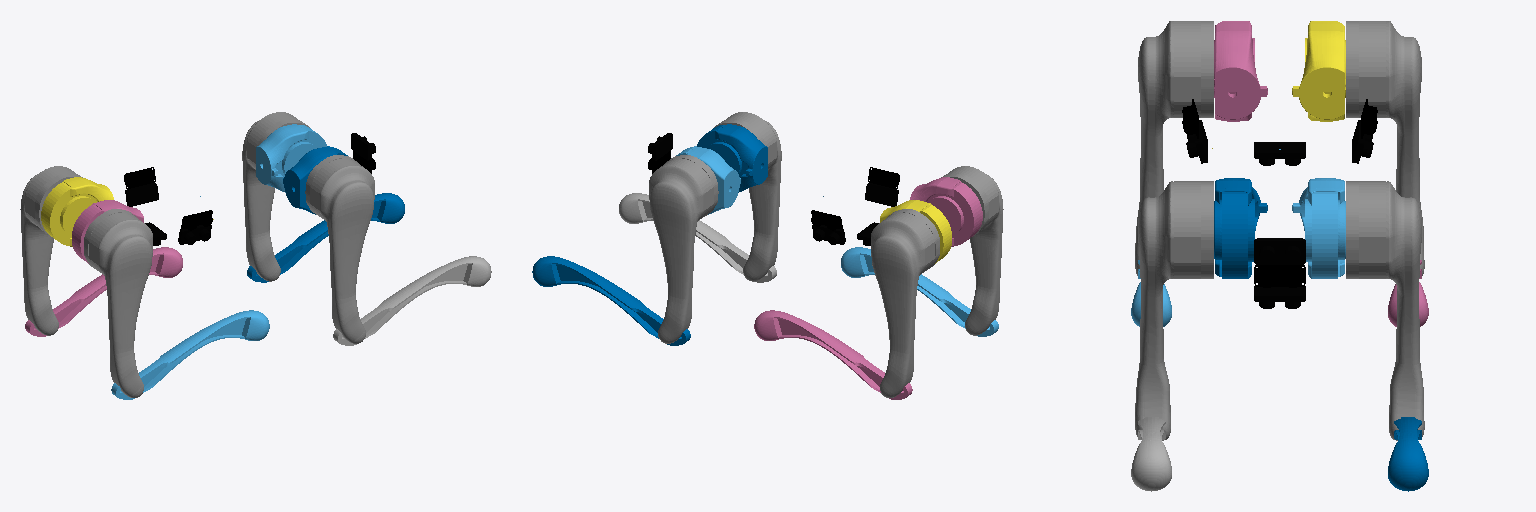
--- Facts derived from the render (not from the file) ---
Views: 3 orthographic renders of the robot side by side, from view 1: azimuth 30°, elevation 25°; view 2: azimuth 150°, elevation 25°; view 3: azimuth 270°, elevation 25°.
Model go1_description with 39 links and 38 joints (12 revolute, 26 fixed), rooted at world, posed all joints at 0 but 4 set to mid-range because 0 is outside their limits (FR_calf_joint = -1.81, FL_calf_joint = -1.81, RR_calf_joint = -1.81, RL_calf_joint = -1.81).
Visible links, largest first — view 1: FR_thigh, RR_thigh, RL_thigh, FL_thigh, FR_calf, RR_calf, RL_hip, FL_hip, FL_calf, RL_calf, FR_hip, RR_hip (+1 smaller); view 2: FL_thigh, RL_thigh, RR_thigh, FR_thigh, FL_calf, RL_calf, RR_hip, FR_hip, FR_calf, RR_calf, FL_hip, RL_hip (+1 smaller); view 3: FR_thigh, FL_thigh, RR_thigh, RL_thigh, RR_hip, RL_hip, FR_hip, FL_hip, FR_calf, FL_calf, camera_face, ultraSound_face (+6 smaller).
Boxes of the visible links, x1=… form: FR_thigh: x1=305, y1=155, x2=374, y2=343; RR_thigh: x1=84, y1=209, x2=152, y2=397; RL_thigh: x1=20, y1=166, x2=82, y2=335; FL_thigh: x1=242, y1=112, x2=309, y2=281; FR_calf: x1=333, y1=256, x2=491, y2=345; RR_calf: x1=111, y1=310, x2=269, y2=399; RL_hip: x1=41, y1=177, x2=113, y2=246; FL_hip: x1=256, y1=124, x2=326, y2=192; FL_calf: x1=247, y1=193, x2=404, y2=282; RL_calf: x1=25, y1=247, x2=182, y2=336; FR_hip: x1=283, y1=146, x2=347, y2=214; RR_hip: x1=72, y1=200, x2=143, y2=263; FL_thigh: x1=649, y1=155, x2=718, y2=343; RL_thigh: x1=871, y1=209, x2=939, y2=397; RR_thigh: x1=941, y1=166, x2=1003, y2=335; FR_thigh: x1=714, y1=112, x2=781, y2=281; FL_calf: x1=532, y1=256, x2=690, y2=345; RL_calf: x1=754, y1=310, x2=912, y2=399; RR_hip: x1=910, y1=177, x2=982, y2=246; FR_hip: x1=697, y1=124, x2=767, y2=192; FR_calf: x1=619, y1=193, x2=776, y2=282; RR_calf: x1=841, y1=247, x2=998, y2=336; FL_hip: x1=676, y1=146, x2=740, y2=214; RL_hip: x1=880, y1=200, x2=951, y2=263; FR_thigh: x1=1135, y1=181, x2=1213, y2=440; FL_thigh: x1=1346, y1=181, x2=1424, y2=440; RR_thigh: x1=1135, y1=21, x2=1213, y2=275; RL_thigh: x1=1346, y1=21, x2=1424, y2=275; RR_hip: x1=1214, y1=21, x2=1267, y2=121; RL_hip: x1=1292, y1=21, x2=1345, y2=121; FR_hip: x1=1214, y1=178, x2=1267, y2=278; FL_hip: x1=1292, y1=178, x2=1345, y2=278; FR_calf: x1=1131, y1=417, x2=1171, y2=491; FL_calf: x1=1388, y1=417, x2=1428, y2=491; camera_face: x1=1254, y1=238, x2=1305, y2=264; ultraSound_face: x1=1254, y1=265, x2=1305, y2=287.
Size in the robot's own frame: 0.6536 by 0.294 by 0.2794 metres.
20 mesh visuals loaded from 7 distinct referenced files (6 Collada DAE); not drawn: 1 (reference not matched to a file when rendering).

URDF robot description (go1_description):
<?xml version="1.0" ?>
<!-- =================================================================================== -->
<!-- |    This document was autogenerated by xacro from robot.xacro                    | -->
<!-- |    EDITING THIS FILE BY HAND IS NOT RECOMMENDED                                 | -->
<!-- =================================================================================== -->
<robot name="go1_description">
  <material name="black">
    <color rgba="0.0 0.0 0.0 1.0"/>
  </material>
  <material name="blue">
    <color rgba="0.0 0.0 0.8 1.0"/>
  </material>
  <material name="green">
    <color rgba="0.0 0.8 0.0 1.0"/>
  </material>
  <material name="grey">
    <color rgba="0.2 0.2 0.2 1.0"/>
  </material>
  <material name="silver">
    <color rgba="0.9137254901960784 0.9137254901960784 0.8470588235294118 1.0"/>
  </material>
  <material name="orange">
    <color rgba="1.0 0.4235294117647059 0.0392156862745098 1.0"/>
  </material>
  <material name="brown">
    <color rgba="0.8705882352941177 0.8117647058823529 0.7647058823529411 1.0"/>
  </material>
  <material name="red">
    <color rgba="0.8 0.0 0.0 1.0"/>
  </material>
  <material name="white">
    <color rgba="1.0 1.0 1.0 1.0"/>
  </material>
  <!-- ros_control plugin -->
  <gazebo>
    <plugin filename="libgazebo_ros_control.so" name="gazebo_ros_control">
      <robotNamespace>/go1_gazebo</robotNamespace>
      <robotSimType>gazebo_ros_control/DefaultRobotHWSim</robotSimType>
    </plugin>
  </gazebo>
  <!-- Show the trajectory of trunk center. -->
  <gazebo>
    <plugin filename="libLinkPlot3DPlugin.so" name="3dplot">
      <frequency>10</frequency>
      <plot>
        <link>base</link>
        <pose>0 0 0 0 0 0</pose>
        <material>Gazebo/Yellow</material>
      </plot>
    </plugin>
  </gazebo>
  <!-- Show the trajectory of foot. You can add another trajectory about another foot. -->
  <!-- <gazebo>
        <plugin name="3dplot" filename="libLinkPlot3DPlugin.so">
            <frequency>100</frequency>
            <plot>
                <link>FL_foot</link>
                <pose>0 0 0 0 0 0</pose>
                <material>Gazebo/Green</material>
            </plot>
        </plugin>
    </gazebo> -->
  <gazebo>
    <plugin filename="libgazebo_ros_force.so" name="gazebo_ros_force">
      <bodyName>trunk</bodyName>
      <topicName>/apply_force/trunk</topicName>
    </plugin>
  </gazebo>
  <gazebo reference="imu_link">
    <gravity>true</gravity>
    <sensor name="imu_sensor" type="imu">
      <always_on>true</always_on>
      <update_rate>1000</update_rate>
      <visualize>true</visualize>
      <topic>__default_topic__</topic>
      <plugin filename="libgazebo_ros_imu_sensor.so" name="imu_plugin">
        <topicName>trunk_imu</topicName>
        <bodyName>imu_link</bodyName>
        <updateRateHZ>1000.0</updateRateHZ>
        <gaussianNoise>0.0</gaussianNoise>
        <xyzOffset>0 0 0</xyzOffset>
        <rpyOffset>0 0 0</rpyOffset>
        <frameName>imu_link</frameName>
      </plugin>
      <pose>0 0 0 0 0 0</pose>
    </sensor>
  </gazebo>
  <!-- Depth camera -->
  <!-- <gazebo>
        <plugin name="camera_plugin" filename="libgazebo_ros_openni_kinect.so">
            <baseline>0.025</baseline>
            <always_on>true</always_on>
            <updateRate>0.0</updateRate>
            <cameraName>unitree_camera_left</cameraName>
            <frameName>depthCamera_link_left</frameName>
            <imageTopicName>rgb/imageRaw_left</imageTopicName>
            <depthImageTopicName>depth/imageRaw_left</depthImageTopicName>
            <pointCloudTopicName>depth/points_left</pointCloudTopicName>
            <cameraInfoTopicName>rgb/cameraInfo_left</cameraInfoTopicName>              
            <depthImageCameraInfoTopicName>depth/cameraInfo_left</depthImageCameraInfoTopicName>            
            <pointCloudCutoff>0.1</pointCloudCutoff>                
            <pointCloudCutoffMax>1.5</pointCloudCutoffMax>                
            <distortionK1>0.0</distortionK1>
            <distortionK2>0.0</distortionK2>
            <distortionK3>0.0</distortionK3>
            <distortionT1>0.0</distortionT1>
            <distortionT2>0.0</distortionT2>
            <CxPrime>0.0</CxPrime>
            <Cx>0.0045</Cx>
            <Cy>0.0039</Cy>
            <focalLength>0.004</focalLength>
            <hackBaseline>0.0</hackBaseline>
        </plugin>
    </gazebo> -->
  <!-- <gazebo reference="depthCamera_link_left">
        <sensor name="unitree_camera_left" type="depth_camera">
            <update_rate>16</update_rate>
            <always_on>true</always_on>
            <visualize>true</visualize>
            <camera>
                <horizontal_fov>2.094</horizontal_fov>
                <image>
                    <width>928</width>
                    <height>800</height>
                    <format>R8G8B8</format>
                </image>
                <depth_camera></depth_camera>
                <clip>
                    <near>0.1</near>
                    <far>100</far>
                </clip>
            </camera>
            <plugin name="camera_plugin" filename="libgazebo_ros_openni_kinect.so">
                <baseline>0.025</baseline>
                <always_on>true</always_on>
                <updateRate>0.0</updateRate>
                <cameraName>unitree_camera_left</cameraName>
                <frameName>depthCamera_link_left</frameName>
                <imageTopicName>rgb/imageRaw_left</imageTopicName>
                <depthImageTopicName>depth/imageRaw_left</depthImageTopicName>
                <pointCloudTopicName>depth/points_left</pointCloudTopicName>
                <cameraInfoTopicName>rgb/cameraInfo_left</cameraInfoTopicName>              
                <depthImageCameraInfoTopicName>depth/cameraInfo_left</depthImageCameraInfoTopicName>            
                <pointCloudCutoff>0.1</pointCloudCutoff>                
                <pointCloudCutoffMax>1.5</pointCloudCutoffMax>                
                <distortionK1>0.0</distortionK1>
                <distortionK2>0.0</distortionK2>
                <distortionK3>0.0</distortionK3>
                <distortionT1>0.0</distortionT1>
                <distortionT2>0.0</distortionT2>
                <CxPrime>0.0</CxPrime>
                <Cx>0.0045</Cx>
                <Cy>0.0039</Cy>
                <focalLength>0.004</focalLength>
                <hackBaseline>0.0</hackBaseline>
            </plugin>
        </sensor>
    </gazebo> -->
  <gazebo reference="depthCamera_link_left">
    <sensor name="camera_link_camera" type="depth">
      <update_rate>20</update_rate>
      <camera>
        <horizontal_fov>1.047198</horizontal_fov>
        <image>
          <width>640</width>
          <height>480</height>
          <format>R8G8B8</format>
        </image>
        <clip>
          <near>0.05</near>
          <far>3</far>
        </clip>
      </camera>
      <plugin filename="libgazebo_ros_openni_kinect.so" name="camera_link_controller">
        <baseline>0.2</baseline>
        <alwaysOn>true</alwaysOn>
        <updateRate>1.0</updateRate>
        <cameraName>camera_link_ir</cameraName>
        <imageTopicName>/camera_link/color/image_raw</imageTopicName>
        <cameraInfoTopicName>/camera_link/color/camera_info</cameraInfoTopicName>
        <depthImageTopicName>/camera_link/depth/image_raw</depthImageTopicName>
        <depthImageInfoTopicName>/camera_link/depth/camera_info</depthImageInfoTopicName>
        <pointCloudTopicName>/camera_link/depth/points</pointCloudTopicName>
        <frameName>depthCamera_link_left</frameName>
        <pointCloudCutoff>0.5</pointCloudCutoff>
        <pointCloudCutoffMax>3.0</pointCloudCutoffMax>
        <distortionK1>0.00000001</distortionK1>
        <distortionK2>0.00000001</distortionK2>
        <distortionK3>0.00000001</distortionK3>
        <distortionT1>0.00000001</distortionT1>
        <distortionT2>0.00000001</distortionT2>
        <CxPrime>0</CxPrime>
        <Cx>0</Cx>
        <Cy>0</Cy>
        <focalLength>0</focalLength>
        <hackBaseline>0</hackBaseline>
      </plugin>
    </sensor>
  </gazebo>
  <!-- Foot contacts. -->
  <gazebo reference="FR_calf">
    <sensor name="FR_foot_contact" type="contact">
      <update_rate>100</update_rate>
      <plugin filename="libunitreeFootContactPlugin.so" name="contactPlugin"/>
      <contact>
        <collision>FR_calf_fixed_joint_lump__FR_foot_collision_1</collision>
      </contact>
    </sensor>
  </gazebo>
  <gazebo reference="FL_calf">
    <sensor name="FL_foot_contact" type="contact">
      <update_rate>100</update_rate>
      <plugin filename="libunitreeFootContactPlugin.so" name="contactPlugin"/>
      <contact>
        <collision>FL_calf_fixed_joint_lump__FL_foot_collision_1</collision>
      </contact>
    </sensor>
  </gazebo>
  <gazebo reference="RR_calf">
    <sensor name="RR_foot_contact" type="contact">
      <update_rate>100</update_rate>
      <plugin filename="libunitreeFootContactPlugin.so" name="contactPlugin"/>
      <contact>
        <collision>RR_calf_fixed_joint_lump__RR_foot_collision_1</collision>
      </contact>
    </sensor>
  </gazebo>
  <gazebo reference="RL_calf">
    <sensor name="RL_foot_contact" type="contact">
      <update_rate>100</update_rate>
      <plugin filename="libunitreeFootContactPlugin.so" name="contactPlugin"/>
      <contact>
        <collision>RL_calf_fixed_joint_lump__RL_foot_collision_1</collision>
      </contact>
    </sensor>
  </gazebo>
  <!-- Visualization of Foot contacts. -->
  <gazebo reference="FR_foot">
    <visual>
      <plugin filename="libunitreeDrawForcePlugin.so" name="drawForcePlugin">
        <topicName>FR_foot_contact</topicName>
      </plugin>
    </visual>
  </gazebo>
  <gazebo reference="FL_foot">
    <visual>
      <plugin filename="libunitreeDrawForcePlugin.so" name="drawForcePlugin">
        <topicName>FL_foot_contact</topicName>
      </plugin>
    </visual>
  </gazebo>
  <gazebo reference="RR_foot">
    <visual>
      <plugin filename="libunitreeDrawForcePlugin.so" name="drawForcePlugin">
        <topicName>RR_foot_contact</topicName>
      </plugin>
    </visual>
  </gazebo>
  <gazebo reference="RL_foot">
    <visual>
      <plugin filename="libunitreeDrawForcePlugin.so" name="drawForcePlugin">
        <topicName>RL_foot_contact</topicName>
      </plugin>
    </visual>
  </gazebo>
  <gazebo reference="base">
    <material>Gazebo/Green</material>
    <turnGravityOff>false</turnGravityOff>
  </gazebo>
  <gazebo reference="trunk">
    <mu1>0.2</mu1>
    <mu2>0.2</mu2>
    <kp value="1000000.0"/>
    <kd value="1.0"/>
  </gazebo>
  <gazebo reference="stick_link">
    <mu1>0.2</mu1>
    <mu2>0.2</mu2>
    <material>Gazebo/White</material>
  </gazebo>
  <gazebo reference="imu_link">
    <mu1>0.2</mu1>
    <mu2>0.2</mu2>
    <material>Gazebo/Red</material>
  </gazebo>
  <!-- FL leg -->
  <gazebo reference="FL_hip">
    <mu1>0.2</mu1>
    <mu2>0.2</mu2>
    <material>Gazebo/DarkGrey</material>
  </gazebo>
  <gazebo reference="FL_thigh">
    <mu1>0.2</mu1>
    <mu2>0.2</mu2>
    <self_collide>1</self_collide>
    <material>Gazebo/DarkGrey</material>
    <kp value="1000000.0"/>
    <kd value="1.0"/>
  </gazebo>
  <gazebo reference="FL_calf">
    <mu1>0.2</mu1>
    <mu2>0.2</mu2>
    <self_collide>1</self_collide>
  </gazebo>
  <gazebo reference="FL_foot">
    <mu1>0.6</mu1>
    <mu2>0.6</mu2>
    <self_collide>1</self_collide>
    <material>Gazebo/DarkGrey</material>
    <kp value="1000000.0"/>
    <kd value="1.0"/>
  </gazebo>
  <!-- FR leg -->
  <gazebo reference="FR_hip">
    <mu1>0.2</mu1>
    <mu2>0.2</mu2>
    <material>Gazebo/DarkGrey</material>
  </gazebo>
  <gazebo reference="FR_thigh">
    <mu1>0.2</mu1>
    <mu2>0.2</mu2>
    <self_collide>1</self_collide>
    <material>Gazebo/DarkGrey</material>
    <kp value="1000000.0"/>
    <kd value="1.0"/>
  </gazebo>
  <gazebo reference="FR_calf">
    <mu1>0.2</mu1>
    <mu2>0.2</mu2>
    <self_collide>1</self_collide>
  </gazebo>
  <gazebo reference="FR_foot">
    <mu1>0.6</mu1>
    <mu2>0.6</mu2>
    <self_collide>1</self_collide>
    <material>Gazebo/DarkGrey</material>
    <kp value="1000000.0"/>
    <kd value="1.0"/>
  </gazebo>
  <!-- RL leg -->
  <gazebo reference="RL_hip">
    <mu1>0.2</mu1>
    <mu2>0.2</mu2>
    <material>Gazebo/DarkGrey</material>
  </gazebo>
  <gazebo reference="RL_thigh">
    <mu1>0.2</mu1>
    <mu2>0.2</mu2>
    <self_collide>1</self_collide>
    <material>Gazebo/DarkGrey</material>
    <kp value="1000000.0"/>
    <kd value="1.0"/>
  </gazebo>
  <gazebo reference="RL_calf">
    <mu1>0.2</mu1>
    <mu2>0.2</mu2>
    <self_collide>1</self_collide>
  </gazebo>
  <gazebo reference="RL_foot">
    <mu1>0.6</mu1>
    <mu2>0.6</mu2>
    <self_collide>1</self_collide>
    <material>Gazebo/DarkGrey</material>
    <kp value="1000000.0"/>
    <kd value="1.0"/>
  </gazebo>
  <!-- RR leg -->
  <gazebo reference="RR_hip">
    <mu1>0.2</mu1>
    <mu2>0.2</mu2>
    <material>Gazebo/DarkGrey</material>
  </gazebo>
  <gazebo reference="RR_thigh">
    <mu1>0.2</mu1>
    <mu2>0.2</mu2>
    <self_collide>1</self_collide>
    <material>Gazebo/DarkGrey</material>
    <kp value="1000000.0"/>
    <kd value="1.0"/>
  </gazebo>
  <gazebo reference="RR_calf">
    <mu1>0.2</mu1>
    <mu2>0.2</mu2>
    <self_collide>1</self_collide>
  </gazebo>
  <gazebo reference="RR_foot">
    <mu1>0.6</mu1>
    <mu2>0.6</mu2>
    <self_collide>1</self_collide>
    <material>Gazebo/DarkGrey</material>
    <kp value="1000000.0"/>
    <kd value="1.0"/>
  </gazebo>
  <!-- <xacro:include filename="$(find go1_gazebo)/launch/stairs.urdf.xacro"/> -->
  <!-- <xacro:stairs stairs="15" xpos="0" ypos="0" zpos="0" /> -->
  <!-- Debug mode will hung up the robot, use "true" or "false" to switch it. -->
  <!-- <xacro:if value="$(arg DEBUG)"> -->
  <link name="world"/>
  <joint name="base_static_joint" type="fixed">
    <origin rpy="0 0 0" xyz="0 0 0"/>
    <parent link="world"/>
    <child link="base"/>
  </joint>
  <!-- </xacro:if>  -->
  <link name="base">
    <visual>
      <origin rpy="0 0 0" xyz="0 0 0"/>
      <geometry>
        <box size="0.001 0.001 0.001"/>
      </geometry>
    </visual>
  </link>
  <joint name="floating_base" type="fixed">
    <origin rpy="0 0 0" xyz="0 0 0"/>
    <parent link="base"/>
    <child link="trunk"/>
  </joint>
  <link name="trunk">
    <visual>
      <origin rpy="0 0 0" xyz="0 0 0"/>
      <geometry>
        <mesh filename="package://go1_description/meshes/trunk.dae" scale="1 1 1"/>
      </geometry>
      <!-- <material name="orange"/> -->
    </visual>
    <collision>
      <origin rpy="0 0 0" xyz="0 0 0"/>
      <geometry>
        <box size="0.3762 0.0935 0.114"/>
      </geometry>
    </collision>
    <inertial>
      <origin rpy="0 0 0" xyz="0.011611 0.004437 0.000108"/>
      <mass value="4.8"/>
      <inertia ixx="0.016130741919" ixy="0.000593180607" ixz="7.324662e-06" iyy="0.036507810812" iyz="2.0969537e-05" izz="0.044693872053"/>
    </inertial>
  </link>
  <joint name="imu_joint" type="fixed">
    <parent link="trunk"/>
    <child link="imu_link"/>
    <origin rpy="0 0 0" xyz="-0.01592 -0.06659 -0.00617"/>
  </joint>
  <link name="imu_link">
    <inertial>
      <mass value="0.001"/>
      <origin rpy="0 0 0" xyz="0 0 0"/>
      <inertia ixx="0.0001" ixy="0" ixz="0" iyy="0.0001" iyz="0" izz="0.0001"/>
    </inertial>
    <visual>
      <origin rpy="0 0 0" xyz="0 0 0"/>
      <geometry>
        <box size="0.001 0.001 0.001"/>
      </geometry>
      <!-- <material name="red"/> -->
    </visual>
    <collision>
      <origin rpy="0 0 0" xyz="0 0 0"/>
      <geometry>
        <box size=".001 .001 .001"/>
      </geometry>
    </collision>
  </link>
  <joint name="FR_hip_joint" type="revolute">
    <origin rpy="0 0 0" xyz="0.1881 -0.04675 0"/>
    <parent link="trunk"/>
    <child link="FR_hip"/>
    <axis xyz="1 0 0"/>
    <dynamics damping="0.01" friction="0.2"/>
    <limit effort="33.5" lower="-0.8028514559173915" upper="0.8028514559173915" velocity="21"/>
  </joint>
  <link name="FR_hip">
    <visual>
      <origin rpy="3.141592653589793 0 0" xyz="0 0 0"/>
      <geometry>
        <mesh filename="package://go1_description/meshes/hip.dae" scale="1 1 1"/>
      </geometry>
      <!-- <material name="orange"/> -->
    </visual>
    <collision>
      <origin rpy="1.5707963267948966 0 0" xyz="0 0 0"/>
      <geometry>
        <cylinder length="0.04" radius="0.046"/>
      </geometry>
    </collision>
    <inertial>
      <origin rpy="0 0 0" xyz="-0.00541 0.00074 6e-06"/>
      <mass value="0.510299"/>
      <inertia ixx="0.00030528937" ixy="7.788013e-06" ixz="2.2016e-07" iyy="0.000590894859" iyz="1.7175e-08" izz="0.000396594572"/>
    </inertial>
  </link>
  <joint name="FR_hip_fixed" type="fixed">
    <origin rpy="0 0 0" xyz="0 -0.08 0"/>
    <parent link="FR_hip"/>
    <child link="FR_thigh_shoulder"/>
  </joint>
  <!-- this link is only for collision -->
  <link name="FR_thigh_shoulder">
    <collision>
      <origin rpy="1.5707963267948966 0 0" xyz="0 0 0"/>
      <geometry>
        <cylinder length="0.032" radius="0.041"/>
      </geometry>
    </collision>
  </link>
  <joint name="FR_thigh_joint" type="revolute">
    <origin rpy="0 0 0" xyz="0 -0.08 0"/>
    <parent link="FR_hip"/>
    <child link="FR_thigh"/>
    <axis xyz="0 1 0"/>
    <dynamics damping="0.01" friction="0.2"/>
    <limit effort="33.5" lower="-1.0471975511965976" upper="4.1887902047863905" velocity="21"/>
  </joint>
  <link name="FR_thigh">
    <visual>
      <origin rpy="0 0 0" xyz="0 0 0"/>
      <geometry>
        <mesh filename="package://go1_description/meshes/thigh_mirror.dae" scale="1 1 1"/>
      </geometry>
      <!-- <material name="orange"/> -->
    </visual>
    <collision>
      <origin rpy="0 1.5707963267948966 0" xyz="0 0 -0.1065"/>
      <geometry>
        <box size="0.213 0.0245 0.034"/>
      </geometry>
    </collision>
    <inertial>
      <origin rpy="0 0 0" xyz="-0.003468 0.018947 -0.032736"/>
      <mass value="0.898919"/>
      <inertia ixx="0.005395867678" ixy="-1.02809e-07" ixz="0.000337529085" iyy="0.005142451046" iyz="5.816563e-06" izz="0.00102478732"/>
    </inertial>
  </link>
  <joint name="FR_calf_joint" type="revolute">
    <origin rpy="0 0 0" xyz="0 0 -0.213"/>
    <parent link="FR_thigh"/>
    <child link="FR_calf"/>
    <axis xyz="0 1 0"/>
    <dynamics damping="0.01" friction="0.2"/>
    <limit effort="33.5" lower="-2.6965336943312392" upper="-0.9162978572970231" velocity="21"/>
  </joint>
  <link name="FR_calf">
    <visual>
      <origin rpy="0 0 0" xyz="0 0 0"/>
      <geometry>
        <mesh filename="package://go1_description/meshes/calf.dae" scale="1 1 1"/>
      </geometry>
      <!-- <material name="orange"/> -->
    </visual>
    <collision>
      <origin rpy="0 1.5707963267948966 0" xyz="0 0 -0.1065"/>
      <geometry>
        <box size="0.213 0.016 0.016"/>
      </geometry>
    </collision>
    <inertial>
      <origin rpy="0 0 0" xyz="0.006286 0.001307 -0.122269"/>
      <mass value="0.158015"/>
      <inertia ixx="0.003607648222" ixy="1.494971e-06" ixz="-0.000132778525" iyy="0.003626771492" iyz="-2.8638535e-05" izz="3.5148003e-05"/>
    </inertial>
  </link>
  <joint name="FR_foot_fixed" type="fixed">
    <origin rpy="0 0 0" xyz="0 0 -0.213"/>
    <parent link="FR_calf"/>
    <child link="FR_foot"/>
  </joint>
  <link name="FR_foot">
    <visual>
      <origin rpy="0 0 0" xyz="0 0 0"/>
      <geometry>
        <sphere radius="0.01"/>
      </geometry>
      <!-- <material name="orange"/> -->
    </visual>
    <collision>
      <origin rpy="0 0 0" xyz="0 0 0"/>
      <geometry>
        <sphere radius="0.02"/>
      </geometry>
    </collision>
    <inertial>
      <mass value="0.06"/>
      <inertia ixx="9.600000000000001e-06" ixy="0.0" ixz="0.0" iyy="9.600000000000001e-06" iyz="0.0" izz="9.600000000000001e-06"/>
    </inertial>
  </link>
  <transmission name="FR_hip_tran">
    <type>transmission_interface/SimpleTransmission</type>
    <joint name="FR_hip_joint">
      <hardwareInterface>hardware_interface/EffortJointInterface</hardwareInterface>
    </joint>
    <actuator name="FR_hip_motor">
      <hardwareInterface>hardware_interface/EffortJointInterface</hardwareInterface>
      <mechanicalReduction>1</mechanicalReduction>
    </actuator>
  </transmission>
  <transmission name="FR_thigh_tran">
    <type>transmission_interface/SimpleTransmission</type>
    <joint name="FR_thigh_joint">
      <hardwareInterface>hardware_interface/EffortJointInterface</hardwareInterface>
    </joint>
    <actuator name="FR_thigh_motor">
      <hardwareInterface>hardware_interface/EffortJointInterface</hardwareInterface>
      <mechanicalReduction>1</mechanicalReduction>
    </actuator>
  </transmission>
  <transmission name="FR_calf_tran">
    <type>transmission_interface/SimpleTransmission</type>
    <joint name="FR_calf_joint">
      <hardwareInterface>hardware_interface/EffortJointInterface</hardwareInterface>
    </joint>
    <actuator name="FR_calf_motor">
      <hardwareInterface>hardware_interface/EffortJointInterface</hardwareInterface>
      <mechanicalReduction>1</mechanicalReduction>
    </actuator>
  </transmission>
  <joint name="FL_hip_joint" type="revolute">
    <origin rpy="0 0 0" xyz="0.1881 0.04675 0"/>
    <parent link="trunk"/>
    <child link="FL_hip"/>
    <axis xyz="1 0 0"/>
    <dynamics damping="0.01" friction="0.2"/>
    <limit effort="33.5" lower="-0.8028514559173915" upper="0.8028514559173915" velocity="21"/>
  </joint>
  <link name="FL_hip">
    <visual>
      <origin rpy="0 0 0" xyz="0 0 0"/>
      <geometry>
        <mesh filename="package://go1_description/meshes/hip.dae" scale="1 1 1"/>
      </geometry>
      <!-- <material name="orange"/> -->
    </visual>
    <collision>
      <origin rpy="1.5707963267948966 0 0" xyz="0 0 0"/>
      <geometry>
        <cylinder length="0.04" radius="0.046"/>
      </geometry>
    </collision>
    <inertial>
      <origin rpy="0 0 0" xyz="-0.00541 -0.00074 6e-06"/>
      <mass value="0.510299"/>
      <inertia ixx="0.00030528937" ixy="-7.788013e-06" ixz="2.2016e-07" iyy="0.000590894859" iyz="-1.7175e-08" izz="0.000396594572"/>
    </inertial>
  </link>
  <joint name="FL_hip_fixed" type="fixed">
    <origin rpy="0 0 0" xyz="0 0.08 0"/>
    <parent link="FL_hip"/>
    <child link="FL_thigh_shoulder"/>
  </joint>
  <!-- this link is only for collision -->
  <link name="FL_thigh_shoulder">
    <collision>
      <origin rpy="1.5707963267948966 0 0" xyz="0 0 0"/>
      <geometry>
        <cylinder length="0.032" radius="0.041"/>
      </geometry>
    </collision>
  </link>
  <joint name="FL_thigh_joint" type="revolute">
    <origin rpy="0 0 0" xyz="0 0.08 0"/>
    <parent link="FL_hip"/>
    <child link="FL_thigh"/>
    <axis xyz="0 1 0"/>
    <dynamics damping="0.01" friction="0.2"/>
    <limit effort="33.5" lower="-1.0471975511965976" upper="4.1887902047863905" velocity="21"/>
  </joint>
  <link name="FL_thigh">
    <visual>
      <origin rpy="0 0 0" xyz="0 0 0"/>
      <geometry>
        <mesh filename="package://go1_description/meshes/thigh.dae" scale="1 1 1"/>
      </geometry>
      <!-- <material name="orange"/> -->
    </visual>
    <collision>
      <origin rpy="0 1.5707963267948966 0" xyz="0 0 -0.1065"/>
      <geometry>
        <box size="0.213 0.0245 0.034"/>
      </geometry>
    </collision>
    <inertial>
      <origin rpy="0 0 0" xyz="-0.003468 -0.018947 -0.032736"/>
      <mass value="0.898919"/>
      <inertia ixx="0.005395867678" ixy="1.02809e-07" ixz="0.000337529085" iyy="0.005142451046" iyz="-5.816563e-06" izz="0.00102478732"/>
    </inertial>
  </link>
  <joint name="FL_calf_joint" type="revolute">
    <origin rpy="0 0 0" xyz="0 0 -0.213"/>
    <parent link="FL_thigh"/>
    <child link="FL_calf"/>
    <axis xyz="0 1 0"/>
    <dynamics damping="0.01" friction="0.2"/>
    <limit effort="33.5" lower="-2.6965336943312392" upper="-0.9162978572970231" velocity="21"/>
  </joint>
  <link name="FL_calf">
    <visual>
      <origin rpy="0 0 0" xyz="0 0 0"/>
      <geometry>
        <mesh filename="package://go1_description/meshes/calf.dae" scale="1 1 1"/>
      </geometry>
      <!-- <material name="orange"/> -->
    </visual>
    <collision>
      <origin rpy="0 1.5707963267948966 0" xyz="0 0 -0.1065"/>
      <geometry>
        <box size="0.213 0.016 0.016"/>
      </geometry>
    </collision>
    <inertial>
      <origin rpy="0 0 0" xyz="0.006286 0.001307 -0.122269"/>
      <mass value="0.158015"/>
      <inertia ixx="0.003607648222" ixy="1.494971e-06" ixz="-0.000132778525" iyy="0.003626771492" iyz="-2.8638535e-05" izz="3.5148003e-05"/>
    </inertial>
  </link>
  <joint name="FL_foot_fixed" type="fixed">
    <origin rpy="0 0 0" xyz="0 0 -0.213"/>
    <parent link="FL_calf"/>
    <child link="FL_foot"/>
  </joint>
  <link name="FL_foot">
    <visual>
      <origin rpy="0 0 0" xyz="0 0 0"/>
      <geometry>
        <sphere radius="0.01"/>
      </geometry>
      <!-- <material name="orange"/> -->
    </visual>
    <collision>
      <origin rpy="0 0 0" xyz="0 0 0"/>
      <geometry>
        <sphere radius="0.02"/>
      </geometry>
    </collision>
    <inertial>
      <mass value="0.06"/>
      <inertia ixx="9.600000000000001e-06" ixy="0.0" ixz="0.0" iyy="9.600000000000001e-06" iyz="0.0" izz="9.600000000000001e-06"/>
    </inertial>
  </link>
  <transmission name="FL_hip_tran">
    <type>transmission_interface/SimpleTransmission</type>
    <joint name="FL_hip_joint">
      <hardwareInterface>hardware_interface/EffortJointInterface</hardwareInterface>
    </joint>
    <actuator name="FL_hip_motor">
      <hardwareInterface>hardware_interface/EffortJointInterface</hardwareInterface>
      <mechanicalReduction>1</mechanicalReduction>
    </actuator>
  </transmission>
  <transmission name="FL_thigh_tran">
    <type>transmission_interface/SimpleTransmission</type>
    <joint name="FL_thigh_joint">
      <hardwareInterface>hardware_interface/EffortJointInterface</hardwareInterface>
    </joint>
    <actuator name="FL_thigh_motor">
      <hardwareInterface>hardware_interface/EffortJointInterface</hardwareInterface>
      <mechanicalReduction>1</mechanicalReduction>
    </actuator>
  </transmission>
  <transmission name="FL_calf_tran">
    <type>transmission_interface/SimpleTransmission</type>
    <joint name="FL_calf_joint">
      <hardwareInterface>hardware_interface/EffortJointInterface</hardwareInterface>
    </joint>
    <actuator name="FL_calf_motor">
      <hardwareInterface>hardware_interface/EffortJointInterface</hardwareInterface>
      <mechanicalReduction>1</mechanicalReduction>
    </actuator>
  </transmission>
  <joint name="RR_hip_joint" type="revolute">
    <origin rpy="0 0 0" xyz="-0.1881 -0.04675 0"/>
    <parent link="trunk"/>
    <child link="RR_hip"/>
    <axis xyz="1 0 0"/>
    <dynamics damping="0.01" friction="0.2"/>
    <limit effort="33.5" lower="-0.8028514559173915" upper="0.8028514559173915" velocity="21"/>
  </joint>
  <link name="RR_hip">
    <visual>
      <origin rpy="3.141592653589793 3.141592653589793 0" xyz="0 0 0"/>
      <geometry>
        <mesh filename="package://go1_description/meshes/hip.dae" scale="1 1 1"/>
      </geometry>
      <!-- <material name="orange"/> -->
    </visual>
    <collision>
      <origin rpy="1.5707963267948966 0 0" xyz="0 0 0"/>
      <geometry>
        <cylinder length="0.04" radius="0.046"/>
      </geometry>
    </collision>
    <inertial>
      <origin rpy="0 0 0" xyz="0.00541 0.00074 6e-06"/>
      <mass value="0.510299"/>
      <inertia ixx="0.00030528937" ixy="-7.788013e-06" ixz="-2.2016e-07" iyy="0.000590894859" iyz="1.7175e-08" izz="0.000396594572"/>
    </inertial>
  </link>
  <joint name="RR_hip_fixed" type="fixed">
    <origin rpy="0 0 0" xyz="0 -0.08 0"/>
    <parent link="RR_hip"/>
    <child link="RR_thigh_shoulder"/>
  </joint>
  <!-- this link is only for collision -->
  <link name="RR_thigh_shoulder">
    <collision>
      <origin rpy="1.5707963267948966 0 0" xyz="0 0 0"/>
      <geometry>
        <cylinder length="0.032" radius="0.041"/>
      </geometry>
    </collision>
  </link>
  <joint name="RR_thigh_joint" type="revolute">
    <origin rpy="0 0 0" xyz="0 -0.08 0"/>
    <parent link="RR_hip"/>
    <child link="RR_thigh"/>
    <axis xyz="0 1 0"/>
    <dynamics damping="0.01" friction="0.2"/>
    <limit effort="33.5" lower="-1.0471975511965976" upper="4.1887902047863905" velocity="21"/>
  </joint>
  <link name="RR_thigh">
    <visual>
      <origin rpy="0 0 0" xyz="0 0 0"/>
      <geometry>
        <mesh filename="package://go1_description/meshes/thigh_mirror.dae" scale="1 1 1"/>
      </geometry>
      <!-- <material name="orange"/> -->
    </visual>
    <collision>
      <origin rpy="0 1.5707963267948966 0" xyz="0 0 -0.1065"/>
      <geometry>
        <box size="0.213 0.0245 0.034"/>
      </geometry>
    </collision>
    <inertial>
      <origin rpy="0 0 0" xyz="-0.003468 0.018947 -0.032736"/>
      <mass value="0.898919"/>
      <inertia ixx="0.005395867678" ixy="-1.02809e-07" ixz="0.000337529085" iyy="0.005142451046" iyz="5.816563e-06" izz="0.00102478732"/>
    </inertial>
  </link>
  <joint name="RR_calf_joint" type="revolute">
    <origin rpy="0 0 0" xyz="0 0 -0.213"/>
    <parent link="RR_thigh"/>
    <child link="RR_calf"/>
    <axis xyz="0 1 0"/>
    <dynamics damping="0.01" friction="0.2"/>
    <limit effort="33.5" lower="-2.6965336943312392" upper="-0.9162978572970231" velocity="21"/>
  </joint>
  <link name="RR_calf">
    <visual>
      <origin rpy="0 0 0" xyz="0 0 0"/>
      <geometry>
        <mesh filename="package://go1_description/meshes/calf.dae" scale="1 1 1"/>
      </geometry>
      <!-- <material name="orange"/> -->
    </visual>
    <collision>
      <origin rpy="0 1.5707963267948966 0" xyz="0 0 -0.1065"/>
      <geometry>
        <box size="0.213 0.016 0.016"/>
      </geometry>
    </collision>
    <inertial>
      <origin rpy="0 0 0" xyz="0.006286 0.001307 -0.122269"/>
      <mass value="0.158015"/>
      <inertia ixx="0.003607648222" ixy="1.494971e-06" ixz="-0.000132778525" iyy="0.003626771492" iyz="-2.8638535e-05" izz="3.5148003e-05"/>
    </inertial>
  </link>
  <joint name="RR_foot_fixed" type="fixed">
    <origin rpy="0 0 0" xyz="0 0 -0.213"/>
    <parent link="RR_calf"/>
    <child link="RR_foot"/>
  </joint>
  <link name="RR_foot">
    <visual>
      <origin rpy="0 0 0" xyz="0 0 0"/>
      <geometry>
        <sphere radius="0.01"/>
      </geometry>
      <!-- <material name="orange"/> -->
    </visual>
    <collision>
      <origin rpy="0 0 0" xyz="0 0 0"/>
      <geometry>
        <sphere radius="0.02"/>
      </geometry>
    </collision>
    <inertial>
      <mass value="0.06"/>
      <inertia ixx="9.600000000000001e-06" ixy="0.0" ixz="0.0" iyy="9.600000000000001e-06" iyz="0.0" izz="9.600000000000001e-06"/>
    </inertial>
  </link>
  <transmission name="RR_hip_tran">
    <type>transmission_interface/SimpleTransmission</type>
    <joint name="RR_hip_joint">
      <hardwareInterface>hardware_interface/EffortJointInterface</hardwareInterface>
    </joint>
    <actuator name="RR_hip_motor">
      <hardwareInterface>hardware_interface/EffortJointInterface</hardwareInterface>
      <mechanicalReduction>1</mechanicalReduction>
    </actuator>
  </transmission>
  <transmission name="RR_thigh_tran">
    <type>transmission_interface/SimpleTransmission</type>
    <joint name="RR_thigh_joint">
      <hardwareInterface>hardware_interface/EffortJointInterface</hardwareInterface>
    </joint>
    <actuator name="RR_thigh_motor">
      <hardwareInterface>hardware_interface/EffortJointInterface</hardwareInterface>
      <mechanicalReduction>1</mechanicalReduction>
    </actuator>
  </transmission>
  <transmission name="RR_calf_tran">
    <type>transmission_interface/SimpleTransmission</type>
    <joint name="RR_calf_joint">
      <hardwareInterface>hardware_interface/EffortJointInterface</hardwareInterface>
    </joint>
    <actuator name="RR_calf_motor">
      <hardwareInterface>hardware_interface/EffortJointInterface</hardwareInterface>
      <mechanicalReduction>1</mechanicalReduction>
    </actuator>
  </transmission>
  <joint name="RL_hip_joint" type="revolute">
    <origin rpy="0 0 0" xyz="-0.1881 0.04675 0"/>
    <parent link="trunk"/>
    <child link="RL_hip"/>
    <axis xyz="1 0 0"/>
    <dynamics damping="0.01" friction="0.2"/>
    <limit effort="33.5" lower="-0.8028514559173915" upper="0.8028514559173915" velocity="21"/>
  </joint>
  <link name="RL_hip">
    <visual>
      <origin rpy="0 3.141592653589793 0" xyz="0 0 0"/>
      <geometry>
        <mesh filename="package://go1_description/meshes/hip.dae" scale="1 1 1"/>
      </geometry>
      <!-- <material name="orange"/> -->
    </visual>
    <collision>
      <origin rpy="1.5707963267948966 0 0" xyz="0 0 0"/>
      <geometry>
        <cylinder length="0.04" radius="0.046"/>
      </geometry>
    </collision>
    <inertial>
      <origin rpy="0 0 0" xyz="0.00541 -0.00074 6e-06"/>
      <mass value="0.510299"/>
      <inertia ixx="0.00030528937" ixy="7.788013e-06" ixz="-2.2016e-07" iyy="0.000590894859" iyz="-1.7175e-08" izz="0.000396594572"/>
    </inertial>
  </link>
  <joint name="RL_hip_fixed" type="fixed">
    <origin rpy="0 0 0" xyz="0 0.08 0"/>
    <parent link="RL_hip"/>
    <child link="RL_thigh_shoulder"/>
  </joint>
  <!-- this link is only for collision -->
  <link name="RL_thigh_shoulder">
    <collision>
      <origin rpy="1.5707963267948966 0 0" xyz="0 0 0"/>
      <geometry>
        <cylinder length="0.032" radius="0.041"/>
      </geometry>
    </collision>
  </link>
  <joint name="RL_thigh_joint" type="revolute">
    <origin rpy="0 0 0" xyz="0 0.08 0"/>
    <parent link="RL_hip"/>
    <child link="RL_thigh"/>
    <axis xyz="0 1 0"/>
    <dynamics damping="0.01" friction="0.2"/>
    <limit effort="33.5" lower="-1.0471975511965976" upper="4.1887902047863905" velocity="21"/>
  </joint>
  <link name="RL_thigh">
    <visual>
      <origin rpy="0 0 0" xyz="0 0 0"/>
      <geometry>
        <mesh filename="package://go1_description/meshes/thigh.dae" scale="1 1 1"/>
      </geometry>
      <!-- <material name="orange"/> -->
    </visual>
    <collision>
      <origin rpy="0 1.5707963267948966 0" xyz="0 0 -0.1065"/>
      <geometry>
        <box size="0.213 0.0245 0.034"/>
      </geometry>
    </collision>
    <inertial>
      <origin rpy="0 0 0" xyz="-0.003468 -0.018947 -0.032736"/>
      <mass value="0.898919"/>
      <inertia ixx="0.005395867678" ixy="1.02809e-07" ixz="0.000337529085" iyy="0.005142451046" iyz="-5.816563e-06" izz="0.00102478732"/>
    </inertial>
  </link>
  <joint name="RL_calf_joint" type="revolute">
    <origin rpy="0 0 0" xyz="0 0 -0.213"/>
    <parent link="RL_thigh"/>
    <child link="RL_calf"/>
    <axis xyz="0 1 0"/>
    <dynamics damping="0.01" friction="0.2"/>
    <limit effort="33.5" lower="-2.6965336943312392" upper="-0.9162978572970231" velocity="21"/>
  </joint>
  <link name="RL_calf">
    <visual>
      <origin rpy="0 0 0" xyz="0 0 0"/>
      <geometry>
        <mesh filename="package://go1_description/meshes/calf.dae" scale="1 1 1"/>
      </geometry>
      <!-- <material name="orange"/> -->
    </visual>
    <collision>
      <origin rpy="0 1.5707963267948966 0" xyz="0 0 -0.1065"/>
      <geometry>
        <box size="0.213 0.016 0.016"/>
      </geometry>
    </collision>
    <inertial>
      <origin rpy="0 0 0" xyz="0.006286 0.001307 -0.122269"/>
      <mass value="0.158015"/>
      <inertia ixx="0.003607648222" ixy="1.494971e-06" ixz="-0.000132778525" iyy="0.003626771492" iyz="-2.8638535e-05" izz="3.5148003e-05"/>
    </inertial>
  </link>
  <joint name="RL_foot_fixed" type="fixed">
    <origin rpy="0 0 0" xyz="0 0 -0.213"/>
    <parent link="RL_calf"/>
    <child link="RL_foot"/>
  </joint>
  <link name="RL_foot">
    <visual>
      <origin rpy="0 0 0" xyz="0 0 0"/>
      <geometry>
        <sphere radius="0.01"/>
      </geometry>
      <!-- <material name="orange"/> -->
    </visual>
    <collision>
      <origin rpy="0 0 0" xyz="0 0 0"/>
      <geometry>
        <sphere radius="0.02"/>
      </geometry>
    </collision>
    <inertial>
      <mass value="0.06"/>
      <inertia ixx="9.600000000000001e-06" ixy="0.0" ixz="0.0" iyy="9.600000000000001e-06" iyz="0.0" izz="9.600000000000001e-06"/>
    </inertial>
  </link>
  <transmission name="RL_hip_tran">
    <type>transmission_interface/SimpleTransmission</type>
    <joint name="RL_hip_joint">
      <hardwareInterface>hardware_interface/EffortJointInterface</hardwareInterface>
    </joint>
    <actuator name="RL_hip_motor">
      <hardwareInterface>hardware_interface/EffortJointInterface</hardwareInterface>
      <mechanicalReduction>1</mechanicalReduction>
    </actuator>
  </transmission>
  <transmission name="RL_thigh_tran">
    <type>transmission_interface/SimpleTransmission</type>
    <joint name="RL_thigh_joint">
      <hardwareInterface>hardware_interface/EffortJointInterface</hardwareInterface>
    </joint>
    <actuator name="RL_thigh_motor">
      <hardwareInterface>hardware_interface/EffortJointInterface</hardwareInterface>
      <mechanicalReduction>1</mechanicalReduction>
    </actuator>
  </transmission>
  <transmission name="RL_calf_tran">
    <type>transmission_interface/SimpleTransmission</type>
    <joint name="RL_calf_joint">
      <hardwareInterface>hardware_interface/EffortJointInterface</hardwareInterface>
    </joint>
    <actuator name="RL_calf_motor">
      <hardwareInterface>hardware_interface/EffortJointInterface</hardwareInterface>
      <mechanicalReduction>1</mechanicalReduction>
    </actuator>
  </transmission>
  <joint name="camera_joint_face" type="fixed">
    <origin rpy="3.141592653589793 0 0" xyz="0.2785 0.0125 0.0167"/>
    <parent link="trunk"/>
    <child link="camera_face"/>
  </joint>
  <link name="camera_face">
    <collision>
      <origin rpy="0 0 0" xyz="0 0 0"/>
      <geometry>
        <box size=".001 .001 .001"/>
      </geometry>
    </collision>
    <visual>
      <origin rpy="0 0 0" xyz="0 0 0"/>
      <geometry>
        <mesh filename="package://go1_description/meshes/depthCamera.dae" scale="1 1 1"/>
      </geometry>
    </visual>
    <inertial>
      <mass value="1e-5"/>
      <origin rpy="0 0 0" xyz="0 0 0"/>
      <inertia ixx="1e-6" ixy="0" ixz="0" iyy="1e-6" iyz="0" izz="1e-6"/>
    </inertial>
  </link>
  <joint name="camera_optical_joint_face" type="fixed">
    <origin rpy="-1.5707963267948966 0 -1.5707963267948966" xyz="0 0 0"/>
    <parent link="camera_face"/>
    <child link="camera_optical_face"/>
  </joint>
  <link name="camera_optical_face">
        </link>
  <gazebo reference="camera_face">
    <!-- <material>Gazebo/Black</material> -->
    <sensor name="camera_face_camera" type="depth">
      <update_rate>16</update_rate>
      <camera>
        <horizontal_fov>2.094</horizontal_fov>
        <image>
          <width>928</width>
          <height>800</height>
          <format>R8G8B8</format>
        </image>
        <clip>
          <near>0.1</near>
          <far>5</far>
        </clip>
      </camera>
      <plugin filename="libgazebo_ros_openni_kinect.so" name="camera_face_controller">
        <baseline>0.025</baseline>
        <alwaysOn>true</alwaysOn>
        <updateRate>0.0</updateRate>
        <cameraName>camera_face_ir</cameraName>
        <imageTopicName>/camera_face/color/image_raw</imageTopicName>
        <cameraInfoTopicName>/camera_face/color/camera_info</cameraInfoTopicName>
        <depthImageTopicName>/camera_face/depth/image_raw</depthImageTopicName>
        <depthImageInfoTopicName>/camera_face/depth/camera_info</depthImageInfoTopicName>
        <!-- <pointCloudTopicName>/camera_${name}/depth/points</pointCloudTopicName> -->
        <pointCloudTopicName>/cam1/point_cloud_face</pointCloudTopicName>
        <frameName>camera_optical_face</frameName>
        <pointCloudCutoff>0.1</pointCloudCutoff>
        <pointCloudCutoffMax>1.5</pointCloudCutoffMax>
        <distortionK1>0.0</distortionK1>
        <distortionK2>0.0</distortionK2>
        <distortionK3>0.0</distortionK3>
        <distortionT1>0.0</distortionT1>
        <distortionT2>0.0</distortionT2>
        <CxPrime>0</CxPrime>
        <Cx>0.0045</Cx>
        <Cy>0.0039</Cy>
        <focalLength>0</focalLength>
        <hackBaseline>0</hackBaseline>
      </plugin>
    </sensor>
  </gazebo>
  <joint name="camera_joint_chin" type="fixed">
    <origin rpy="3.141592653589793 1.5707963267948966 0" xyz="0.2522 0.0125 -0.0436"/>
    <parent link="trunk"/>
    <child link="camera_chin"/>
  </joint>
  <link name="camera_chin">
    <collision>
      <origin rpy="0 0 0" xyz="0 0 0"/>
      <geometry>
        <box size=".001 .001 .001"/>
      </geometry>
    </collision>
    <visual>
      <origin rpy="0 0 0" xyz="0 0 0"/>
      <geometry>
        <mesh filename="package://go1_description/meshes/depthCamera.dae" scale="1 1 1"/>
      </geometry>
    </visual>
    <inertial>
      <mass value="1e-5"/>
      <origin rpy="0 0 0" xyz="0 0 0"/>
      <inertia ixx="1e-6" ixy="0" ixz="0" iyy="1e-6" iyz="0" izz="1e-6"/>
    </inertial>
  </link>
  <joint name="camera_optical_joint_chin" type="fixed">
    <origin rpy="-1.5707963267948966 0 -1.5707963267948966" xyz="0 0 0"/>
    <parent link="camera_chin"/>
    <child link="camera_optical_chin"/>
  </joint>
  <link name="camera_optical_chin">
        </link>
  <gazebo reference="camera_chin">
    <!-- <material>Gazebo/Black</material> -->
    <sensor name="camera_chin_camera" type="depth">
      <update_rate>16</update_rate>
      <camera>
        <horizontal_fov>2.094</horizontal_fov>
        <image>
          <width>928</width>
          <height>800</height>
          <format>R8G8B8</format>
        </image>
        <clip>
          <near>0.1</near>
          <far>5</far>
        </clip>
      </camera>
      <plugin filename="libgazebo_ros_openni_kinect.so" name="camera_chin_controller">
        <baseline>0.025</baseline>
        <alwaysOn>true</alwaysOn>
        <updateRate>0.0</updateRate>
        <cameraName>camera_chin_ir</cameraName>
        <imageTopicName>/camera_chin/color/image_raw</imageTopicName>
        <cameraInfoTopicName>/camera_chin/color/camera_info</cameraInfoTopicName>
        <depthImageTopicName>/camera_chin/depth/image_raw</depthImageTopicName>
        <depthImageInfoTopicName>/camera_chin/depth/camera_info</depthImageInfoTopicName>
        <!-- <pointCloudTopicName>/camera_${name}/depth/points</pointCloudTopicName> -->
        <pointCloudTopicName>/cam2/point_cloud_chin</pointCloudTopicName>
        <frameName>camera_optical_chin</frameName>
        <pointCloudCutoff>0.1</pointCloudCutoff>
        <pointCloudCutoffMax>1.5</pointCloudCutoffMax>
        <distortionK1>0.0</distortionK1>
        <distortionK2>0.0</distortionK2>
        <distortionK3>0.0</distortionK3>
        <distortionT1>0.0</distortionT1>
        <distortionT2>0.0</distortionT2>
        <CxPrime>0</CxPrime>
        <Cx>0.0045</Cx>
        <Cy>0.0039</Cy>
        <focalLength>0</focalLength>
        <hackBaseline>0</hackBaseline>
      </plugin>
    </sensor>
  </gazebo>
  <joint name="camera_joint_left" type="fixed">
    <origin rpy="3.141592653589793 0.2618 1.5707963267948966" xyz="-0.066 0.082 -0.0176"/>
    <parent link="trunk"/>
    <child link="camera_left"/>
  </joint>
  <link name="camera_left">
    <collision>
      <origin rpy="0 0 0" xyz="0 0 0"/>
      <geometry>
        <box size=".001 .001 .001"/>
      </geometry>
    </collision>
    <visual>
      <origin rpy="0 0 0" xyz="0 0 0"/>
      <geometry>
        <mesh filename="package://go1_description/meshes/depthCamera.dae" scale="1 1 1"/>
      </geometry>
    </visual>
    <inertial>
      <mass value="1e-5"/>
      <origin rpy="0 0 0" xyz="0 0 0"/>
      <inertia ixx="1e-6" ixy="0" ixz="0" iyy="1e-6" iyz="0" izz="1e-6"/>
    </inertial>
  </link>
  <joint name="camera_optical_joint_left" type="fixed">
    <origin rpy="-1.5707963267948966 0 -1.5707963267948966" xyz="0 0 0"/>
    <parent link="camera_left"/>
    <child link="camera_optical_left"/>
  </joint>
  <link name="camera_optical_left">
        </link>
  <gazebo reference="camera_left">
    <!-- <material>Gazebo/Black</material> -->
    <sensor name="camera_left_camera" type="depth">
      <update_rate>16</update_rate>
      <camera>
        <horizontal_fov>2.094</horizontal_fov>
        <image>
          <width>928</width>
          <height>800</height>
          <format>R8G8B8</format>
        </image>
        <clip>
          <near>0.1</near>
          <far>5</far>
        </clip>
      </camera>
      <plugin filename="libgazebo_ros_openni_kinect.so" name="camera_left_controller">
        <baseline>0.025</baseline>
        <alwaysOn>true</alwaysOn>
        <updateRate>0.0</updateRate>
        <cameraName>camera_left_ir</cameraName>
        <imageTopicName>/camera_left/color/image_raw</imageTopicName>
        <cameraInfoTopicName>/camera_left/color/camera_info</cameraInfoTopicName>
        <depthImageTopicName>/camera_left/depth/image_raw</depthImageTopicName>
        <depthImageInfoTopicName>/camera_left/depth/camera_info</depthImageInfoTopicName>
        <!-- <pointCloudTopicName>/camera_${name}/depth/points</pointCloudTopicName> -->
        <pointCloudTopicName>/cam3/point_cloud_left</pointCloudTopicName>
        <frameName>camera_optical_left</frameName>
        <pointCloudCutoff>0.1</pointCloudCutoff>
        <pointCloudCutoffMax>1.5</pointCloudCutoffMax>
        <distortionK1>0.0</distortionK1>
        <distortionK2>0.0</distortionK2>
        <distortionK3>0.0</distortionK3>
        <distortionT1>0.0</distortionT1>
        <distortionT2>0.0</distortionT2>
        <CxPrime>0</CxPrime>
        <Cx>0.0045</Cx>
        <Cy>0.0039</Cy>
        <focalLength>0</focalLength>
        <hackBaseline>0</hackBaseline>
      </plugin>
    </sensor>
  </gazebo>
  <joint name="camera_joint_right" type="fixed">
    <origin rpy="3.141592653589793 0.2618 -1.5707963267948966" xyz="-0.041 -0.082 -0.0176"/>
    <parent link="trunk"/>
    <child link="camera_right"/>
  </joint>
  <link name="camera_right">
    <collision>
      <origin rpy="0 0 0" xyz="0 0 0"/>
      <geometry>
        <box size=".001 .001 .001"/>
      </geometry>
    </collision>
    <visual>
      <origin rpy="0 0 0" xyz="0 0 0"/>
      <geometry>
        <mesh filename="package://go1_description/meshes/depthCamera.dae" scale="1 1 1"/>
      </geometry>
    </visual>
    <inertial>
      <mass value="1e-5"/>
      <origin rpy="0 0 0" xyz="0 0 0"/>
      <inertia ixx="1e-6" ixy="0" ixz="0" iyy="1e-6" iyz="0" izz="1e-6"/>
    </inertial>
  </link>
  <joint name="camera_optical_joint_right" type="fixed">
    <origin rpy="-1.5707963267948966 0 -1.5707963267948966" xyz="0 0 0"/>
    <parent link="camera_right"/>
    <child link="camera_optical_right"/>
  </joint>
  <link name="camera_optical_right">
        </link>
  <gazebo reference="camera_right">
    <!-- <material>Gazebo/Black</material> -->
    <sensor name="camera_right_camera" type="depth">
      <update_rate>16</update_rate>
      <camera>
        <horizontal_fov>2.094</horizontal_fov>
        <image>
          <width>928</width>
          <height>800</height>
          <format>R8G8B8</format>
        </image>
        <clip>
          <near>0.1</near>
          <far>5</far>
        </clip>
      </camera>
      <plugin filename="libgazebo_ros_openni_kinect.so" name="camera_right_controller">
        <baseline>0.025</baseline>
        <alwaysOn>true</alwaysOn>
        <updateRate>0.0</updateRate>
        <cameraName>camera_right_ir</cameraName>
        <imageTopicName>/camera_right/color/image_raw</imageTopicName>
        <cameraInfoTopicName>/camera_right/color/camera_info</cameraInfoTopicName>
        <depthImageTopicName>/camera_right/depth/image_raw</depthImageTopicName>
        <depthImageInfoTopicName>/camera_right/depth/camera_info</depthImageInfoTopicName>
        <!-- <pointCloudTopicName>/camera_${name}/depth/points</pointCloudTopicName> -->
        <pointCloudTopicName>/cam4/point_cloud_right</pointCloudTopicName>
        <frameName>camera_optical_right</frameName>
        <pointCloudCutoff>0.1</pointCloudCutoff>
        <pointCloudCutoffMax>1.5</pointCloudCutoffMax>
        <distortionK1>0.0</distortionK1>
        <distortionK2>0.0</distortionK2>
        <distortionK3>0.0</distortionK3>
        <distortionT1>0.0</distortionT1>
        <distortionT2>0.0</distortionT2>
        <CxPrime>0</CxPrime>
        <Cx>0.0045</Cx>
        <Cy>0.0039</Cy>
        <focalLength>0</focalLength>
        <hackBaseline>0</hackBaseline>
      </plugin>
    </sensor>
  </gazebo>
  <joint name="camera_joint_rearDown" type="fixed">
    <origin rpy="3.141592653589793 1.5707963267948966 0" xyz="-0.0825 0.0125 -0.04365"/>
    <parent link="trunk"/>
    <child link="camera_rearDown"/>
  </joint>
  <link name="camera_rearDown">
    <collision>
      <origin rpy="0 0 0" xyz="0 0 0"/>
      <geometry>
        <box size=".001 .001 .001"/>
      </geometry>
    </collision>
    <visual>
      <origin rpy="0 0 0" xyz="0 0 0"/>
      <geometry>
        <mesh filename="package://go1_description/meshes/depthCamera.dae" scale="1 1 1"/>
      </geometry>
    </visual>
    <inertial>
      <mass value="1e-5"/>
      <origin rpy="0 0 0" xyz="0 0 0"/>
      <inertia ixx="1e-6" ixy="0" ixz="0" iyy="1e-6" iyz="0" izz="1e-6"/>
    </inertial>
  </link>
  <joint name="camera_optical_joint_rearDown" type="fixed">
    <origin rpy="-1.5707963267948966 0 -1.5707963267948966" xyz="0 0 0"/>
    <parent link="camera_rearDown"/>
    <child link="camera_optical_rearDown"/>
  </joint>
  <link name="camera_optical_rearDown">
        </link>
  <gazebo reference="camera_rearDown">
    <!-- <material>Gazebo/Black</material> -->
    <sensor name="camera_rearDown_camera" type="depth">
      <update_rate>16</update_rate>
      <camera>
        <horizontal_fov>2.094</horizontal_fov>
        <image>
          <width>928</width>
          <height>800</height>
          <format>R8G8B8</format>
        </image>
        <clip>
          <near>0.1</near>
          <far>5</far>
        </clip>
      </camera>
      <plugin filename="libgazebo_ros_openni_kinect.so" name="camera_rearDown_controller">
        <baseline>0.025</baseline>
        <alwaysOn>true</alwaysOn>
        <updateRate>0.0</updateRate>
        <cameraName>camera_rearDown_ir</cameraName>
        <imageTopicName>/camera_rearDown/color/image_raw</imageTopicName>
        <cameraInfoTopicName>/camera_rearDown/color/camera_info</cameraInfoTopicName>
        <depthImageTopicName>/camera_rearDown/depth/image_raw</depthImageTopicName>
        <depthImageInfoTopicName>/camera_rearDown/depth/camera_info</depthImageInfoTopicName>
        <!-- <pointCloudTopicName>/camera_${name}/depth/points</pointCloudTopicName> -->
        <pointCloudTopicName>/cam5/point_cloud_rearDown</pointCloudTopicName>
        <frameName>camera_optical_rearDown</frameName>
        <pointCloudCutoff>0.1</pointCloudCutoff>
        <pointCloudCutoffMax>1.5</pointCloudCutoffMax>
        <distortionK1>0.0</distortionK1>
        <distortionK2>0.0</distortionK2>
        <distortionK3>0.0</distortionK3>
        <distortionT1>0.0</distortionT1>
        <distortionT2>0.0</distortionT2>
        <CxPrime>0</CxPrime>
        <Cx>0.0045</Cx>
        <Cy>0.0039</Cy>
        <focalLength>0</focalLength>
        <hackBaseline>0</hackBaseline>
      </plugin>
    </sensor>
  </gazebo>
  <joint name="camera_laserscan_joint_left" type="fixed">
    <origin rpy="0 0.2618 0" xyz="0 0 0"/>
    <parent link="camera_left"/>
    <child link="camera_laserscan_link_left"/>
  </joint>
  <link name="camera_laserscan_link_left">
    </link>
  <joint name="camera_laserscan_joint_right" type="fixed">
    <origin rpy="0 0.2618 0" xyz="0 0 0"/>
    <parent link="camera_right"/>
    <child link="camera_laserscan_link_right"/>
  </joint>
  <link name="camera_laserscan_link_right">
    </link>
  <joint name="ultraSound_joint_left" type="fixed">
    <origin rpy="0 0.2618 1.5707963267948966" xyz="-0.0535  0.0826 0.00868"/>
    <parent link="trunk"/>
    <child link="ultraSound_left"/>
  </joint>
  <link name="ultraSound_left">
    <collision>
      <origin rpy="0 0 0" xyz="0 0 0"/>
      <geometry>
        <box size=".001 .001 .001"/>
      </geometry>
    </collision>
    <visual>
      <origin rpy="0 0 0" xyz="0 0 0"/>
      <geometry>
        <mesh filename="package://go1_description/meshes/ultraSound.dae" scale="1 1 1"/>
      </geometry>
      <material name="black"/>
    </visual>
    <inertial>
      <mass value="1e-5"/>
      <origin rpy="0 0 0" xyz="0 0 0"/>
      <inertia ixx="1e-6" ixy="0" ixz="0" iyy="1e-6" iyz="0" izz="1e-6"/>
    </inertial>
  </link>
  <joint name="ultraSound_joint_right" type="fixed">
    <origin rpy="0 0.2618 -1.5707963267948966" xyz="-0.0535 -0.0826 0.00868"/>
    <parent link="trunk"/>
    <child link="ultraSound_right"/>
  </joint>
  <link name="ultraSound_right">
    <collision>
      <origin rpy="0 0 0" xyz="0 0 0"/>
      <geometry>
        <box size=".001 .001 .001"/>
      </geometry>
    </collision>
    <visual>
      <origin rpy="0 0 0" xyz="0 0 0"/>
      <geometry>
        <mesh filename="package://go1_description/meshes/ultraSound.dae" scale="1 1 1"/>
      </geometry>
      <material name="black"/>
    </visual>
    <inertial>
      <mass value="1e-5"/>
      <origin rpy="0 0 0" xyz="0 0 0"/>
      <inertia ixx="1e-6" ixy="0" ixz="0" iyy="1e-6" iyz="0" izz="1e-6"/>
    </inertial>
  </link>
  <joint name="ultraSound_joint_face" type="fixed">
    <origin rpy="0 0 0" xyz="0.2747 0.0 -0.0088"/>
    <parent link="trunk"/>
    <child link="ultraSound_face"/>
  </joint>
  <link name="ultraSound_face">
    <collision>
      <origin rpy="0 0 0" xyz="0 0 0"/>
      <geometry>
        <box size=".001 .001 .001"/>
      </geometry>
    </collision>
    <visual>
      <origin rpy="0 0 0" xyz="0 0 0"/>
      <geometry>
        <mesh filename="package://go1_description/meshes/ultraSound.dae" scale="1 1 1"/>
      </geometry>
      <material name="black"/>
    </visual>
    <inertial>
      <mass value="1e-5"/>
      <origin rpy="0 0 0" xyz="0 0 0"/>
      <inertia ixx="1e-6" ixy="0" ixz="0" iyy="1e-6" iyz="0" izz="1e-6"/>
    </inertial>
  </link>
</robot>
